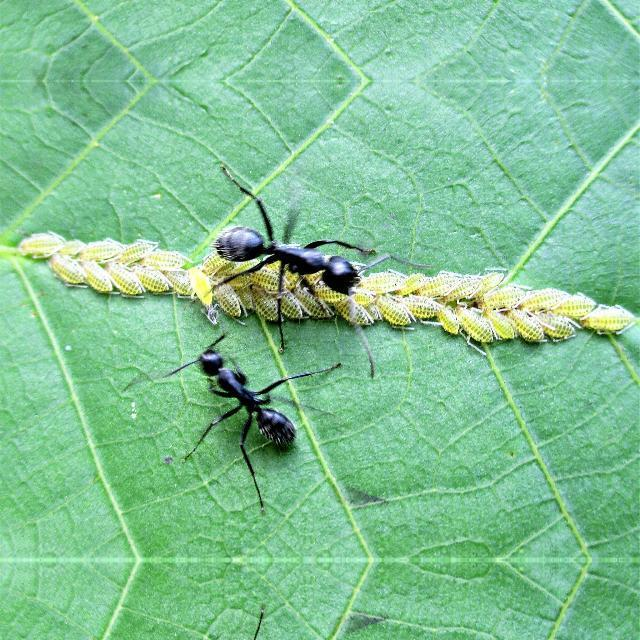Camponotus: (206, 190, 397, 330), (195, 332, 321, 460)
